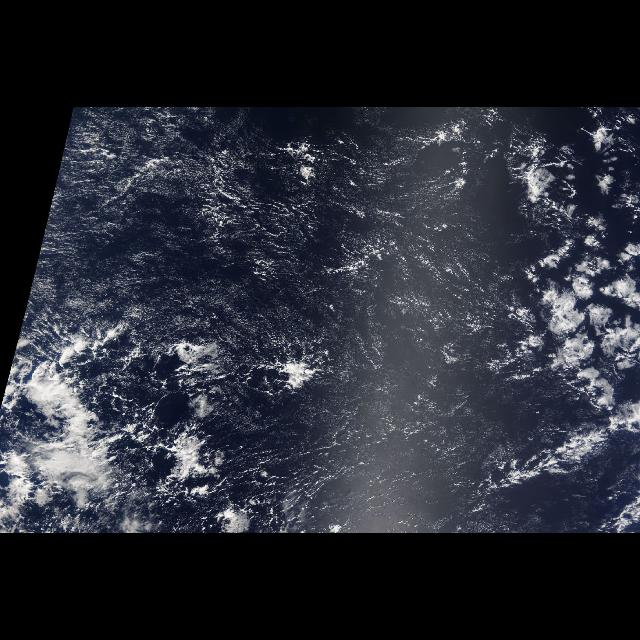Flower: (513, 222, 637, 430)
Sugar: (20, 127, 510, 523)
